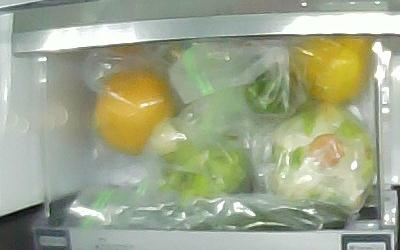broccoli_vinyl: (150, 125, 252, 206)
cucumber_vinyl: (120, 199, 348, 230)
grapefruit_vinyl: (95, 70, 176, 157)
lettuce_vinyl: (273, 106, 374, 209)
paprika_vinyl: (288, 37, 373, 105), (246, 56, 298, 114)
